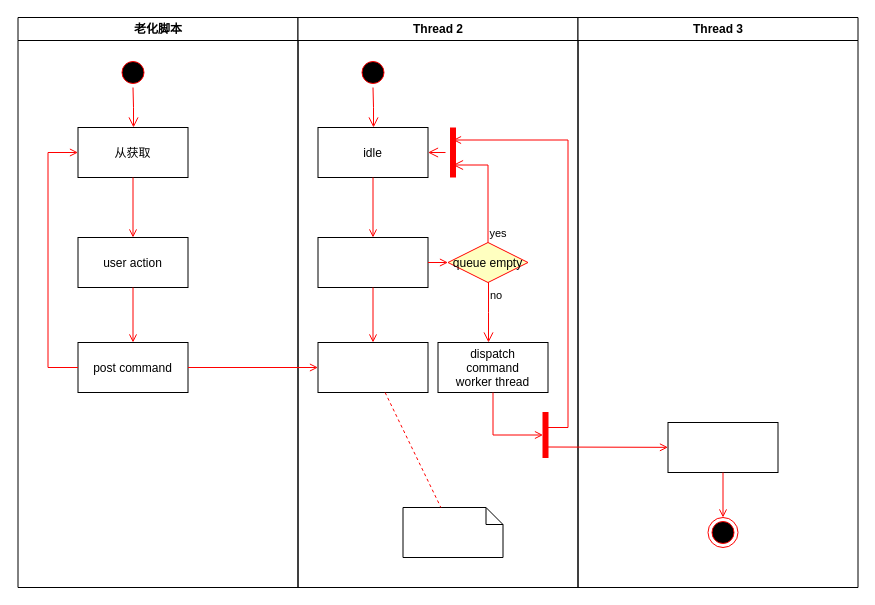
Image size: 875x605. Some labels were removed from this diagram. Each missing label, with the centre of its shape:
"check for new commands" belongs at point 372,262.
"command queue" belongs at point 372,367.
"critical section" belongs at point 452,532.
"process command" belongs at point 722,447.
